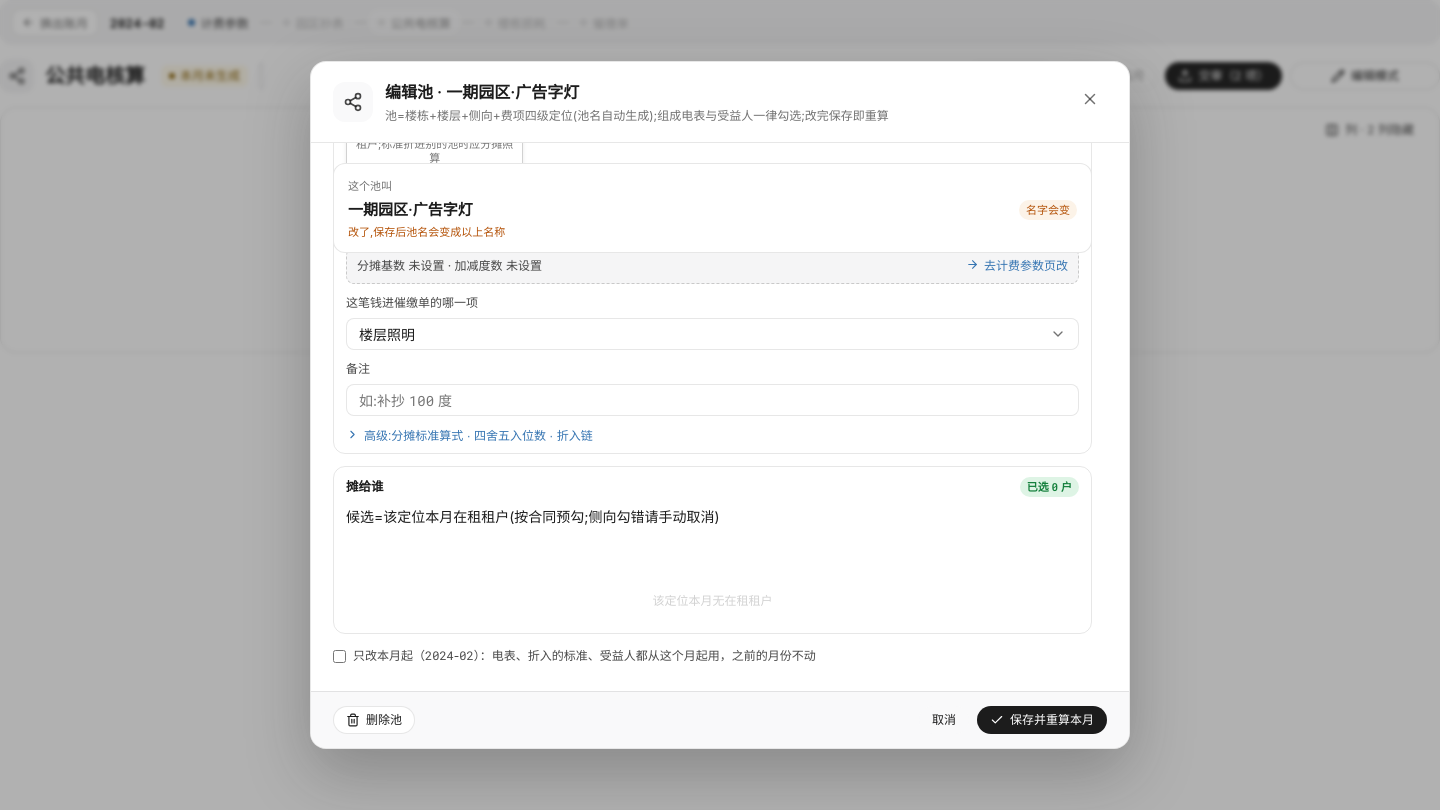
Test: 池按月配置 · 抽屉 › 既有池没有取整位行:写明未设置、按 2 位
(page scrolled)
Click the button "高级:分摊标准算式 · 四舍五入位数 · 折入链" at coordinates (469, 435), box [346,426,593,443]
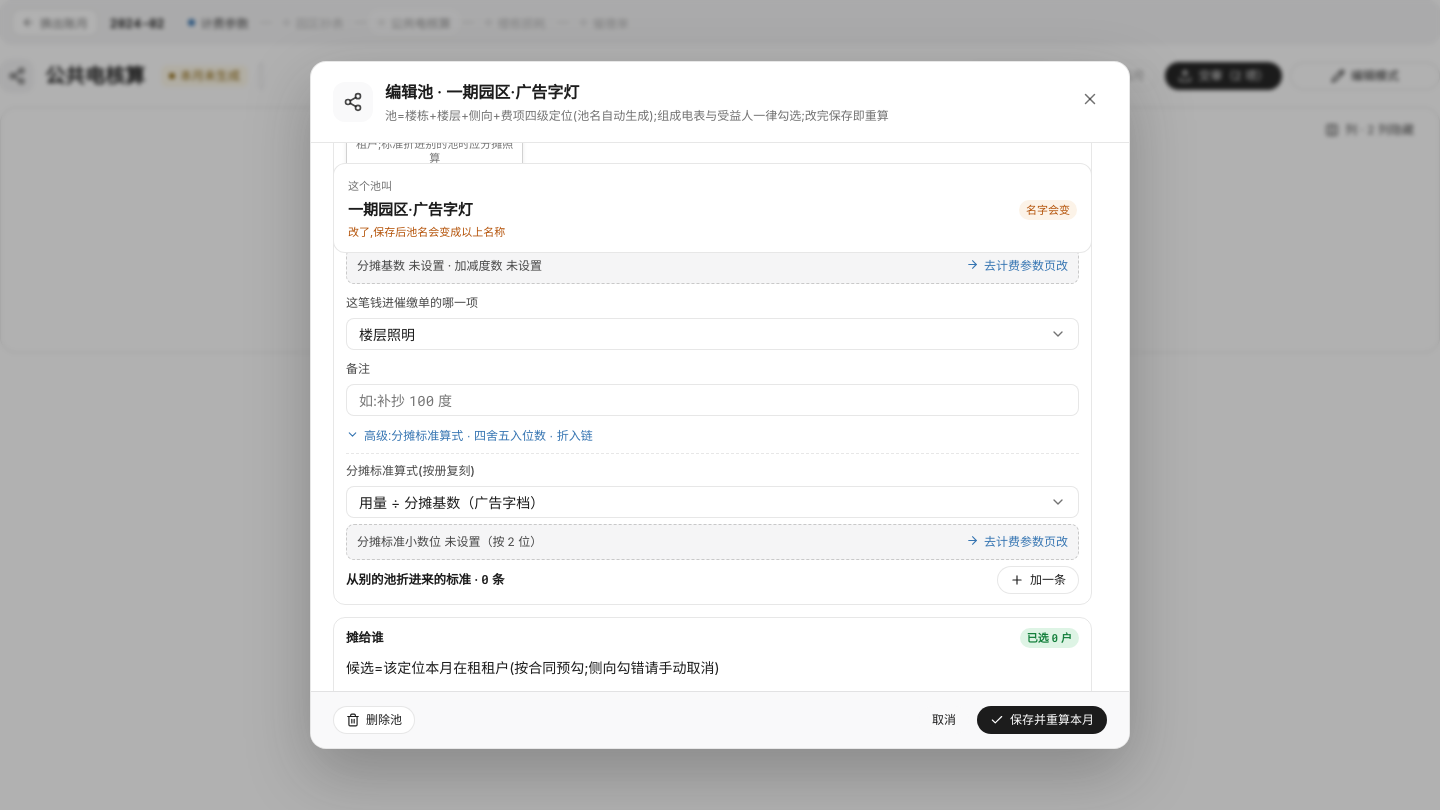
Check: the element showing "分摊标准小数位 未设置（按 2 位） 去计费参数页改" is shown, box [346,524,1079,560]
